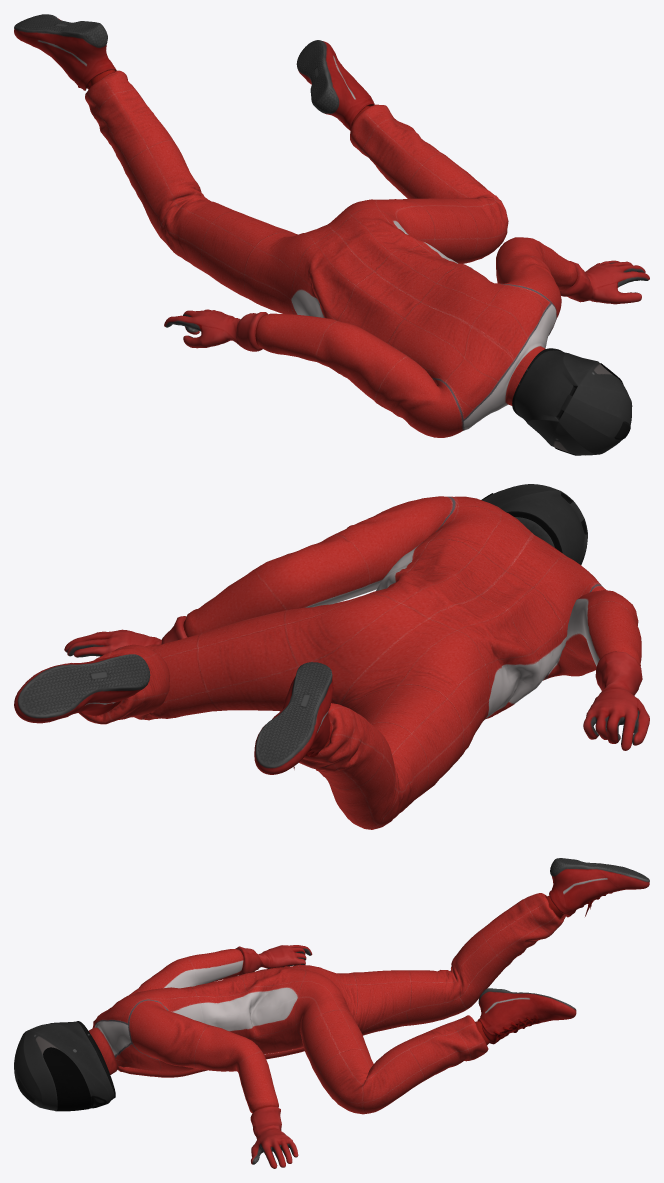
Rendered from corps.fbx.
The picture shows the model from 3 angles, top to bottom: view 1: azimuth 30°, elevation 25°; view 2: azimuth 150°, elevation 25°; view 3: azimuth 270°, elevation 25°; orthographic projection. The views are drawn at different scales.
Parts seen in each view (by area): view 1: Ch20.002; view 2: Ch20.002; view 3: Ch20.002.
Part boxes in pixels (bbox=[...]): Ch20.002: bbox=[14, 14, 649, 455]; Ch20.002: bbox=[14, 484, 649, 829]; Ch20.002: bbox=[14, 858, 649, 1168].
Size of the model in its own units: 118 by 56.05 by 178.
